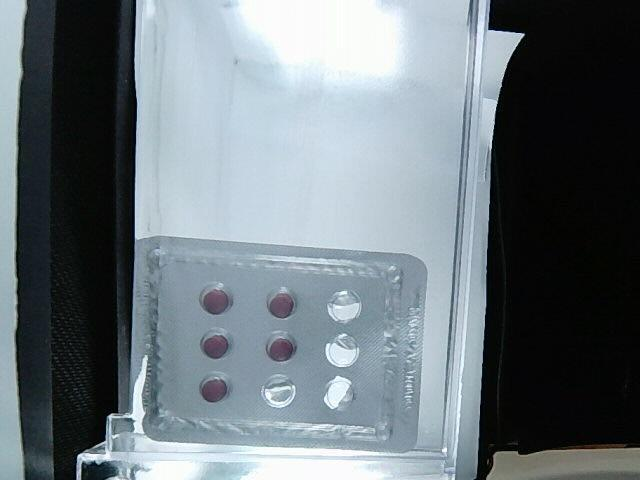Light Front: (134, 237, 429, 454)
No Pill Front: (325, 333, 360, 367), (261, 375, 296, 408), (328, 290, 361, 323), (324, 375, 354, 410)
Pill Front: (200, 283, 233, 314), (265, 331, 296, 361), (200, 329, 231, 358), (266, 288, 294, 318), (201, 378, 227, 403)
